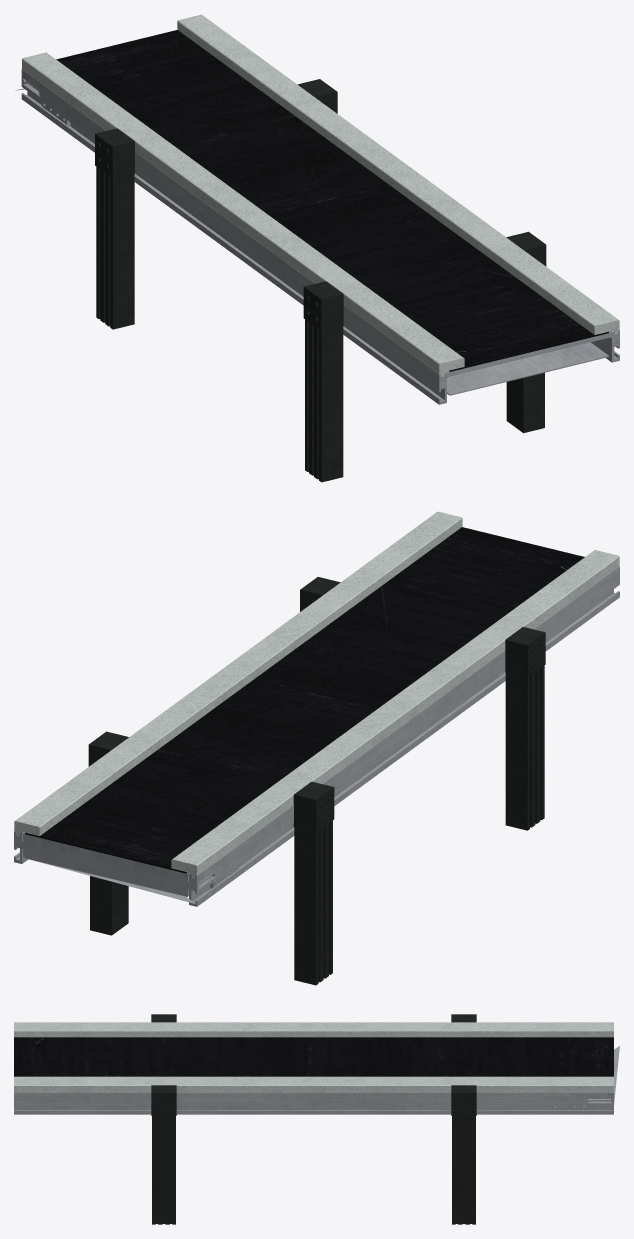
The model's file is Conveyor.gltf.
The picture shows the model from 3 angles, top to bottom: view 1: azimuth 30°, elevation 25°; view 2: azimuth 150°, elevation 25°; view 3: azimuth 270°, elevation 25°; orthographic projection. The views are drawn at different scales.
Parts seen in each view (by area): view 1: color-2, color-6, color, color-4, color-7[1], color-7, color-3, color-7[2], color-5, color-7[3]; view 2: color-2, color-6, color, color-4, color-7[1], color-7, color-5, color-7[3], color-7[2]; view 3: color-2, color-4, color, color-6, color-7[2], color-7[3], color-5.
Boxes of the visible parts, x1,y1,x2,y2 form: color-2: [56, 30, 608, 371]; color-6: [22, 52, 464, 376]; color: [177, 14, 619, 334]; color-4: [52, 92, 619, 404]; color-7[1]: [303, 281, 343, 482]; color-7: [95, 128, 134, 329]; color-3: [15, 88, 608, 395]; color-7[2]: [506, 231, 546, 433]; color-5: [21, 69, 70, 126]; color-7[3]: [297, 79, 337, 113]; color-2: [25, 527, 584, 873]; color-6: [171, 550, 619, 878]; color: [14, 511, 462, 836]; color-4: [227, 567, 619, 883]; color-7[1]: [505, 627, 545, 830]; color-7: [293, 781, 334, 985]; color-5: [14, 831, 238, 906]; color-7[3]: [88, 731, 128, 935]; color-7[2]: [300, 577, 340, 611]; color-2: [14, 1037, 613, 1076]; color-4: [14, 1093, 569, 1114]; color: [14, 1076, 613, 1092]; color-6: [14, 1022, 613, 1037]; color-7[2]: [151, 1085, 176, 1224]; color-7[3]: [451, 1085, 476, 1224]; color-5: [551, 1093, 613, 1114].
Bounding box in the file's own units: 31.5 × 24.25 × 101.
4 materials, 4 textured.
